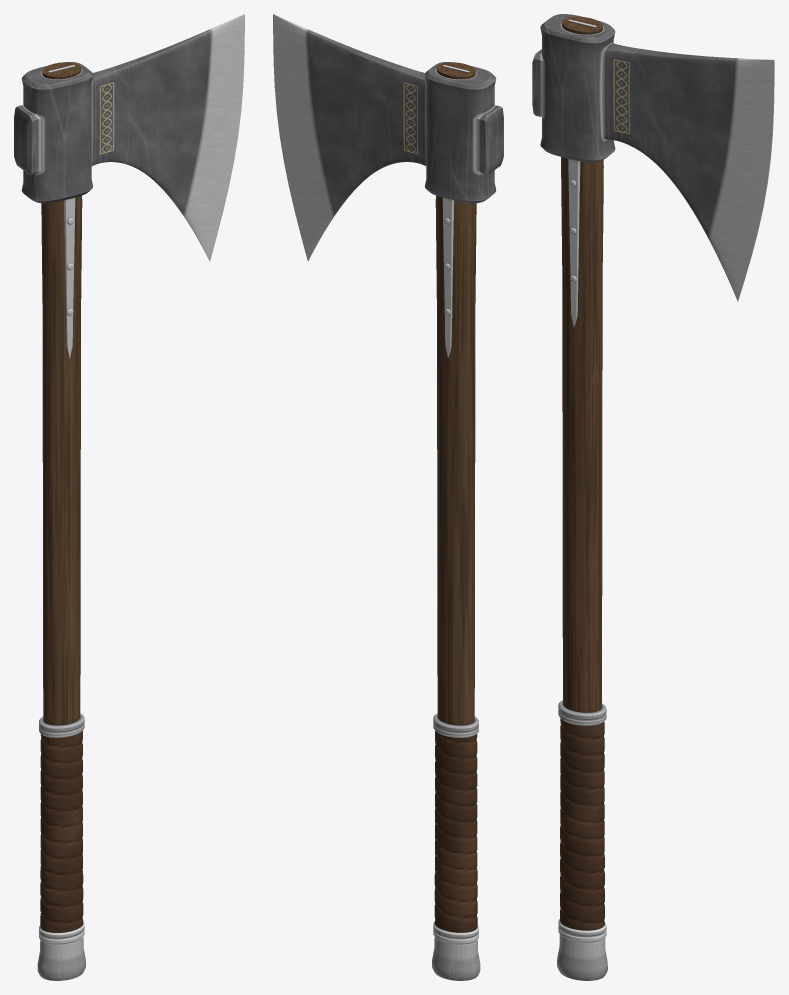
File: SM_SteelAxe.glb
The picture shows the model from 3 angles, left to right: view 1: azimuth 30°, elevation 25°; view 2: azimuth 150°, elevation 25°; view 3: azimuth 330°, elevation 25°; orthographic projection. The views are drawn at different scales.
Parts seen in each view (by area): view 1: SM_SteelAxe; view 2: SM_SteelAxe; view 3: SM_SteelAxe.
Boxes of the visible parts, box(x1,y1,x2,y2) form: SM_SteelAxe: box(14, 14, 244, 980); SM_SteelAxe: box(273, 14, 503, 980); SM_SteelAxe: box(532, 14, 774, 980).
Size of the model in its own units: 0.206 by 0.806 by 0.0367.
1 material, 1 textured.
